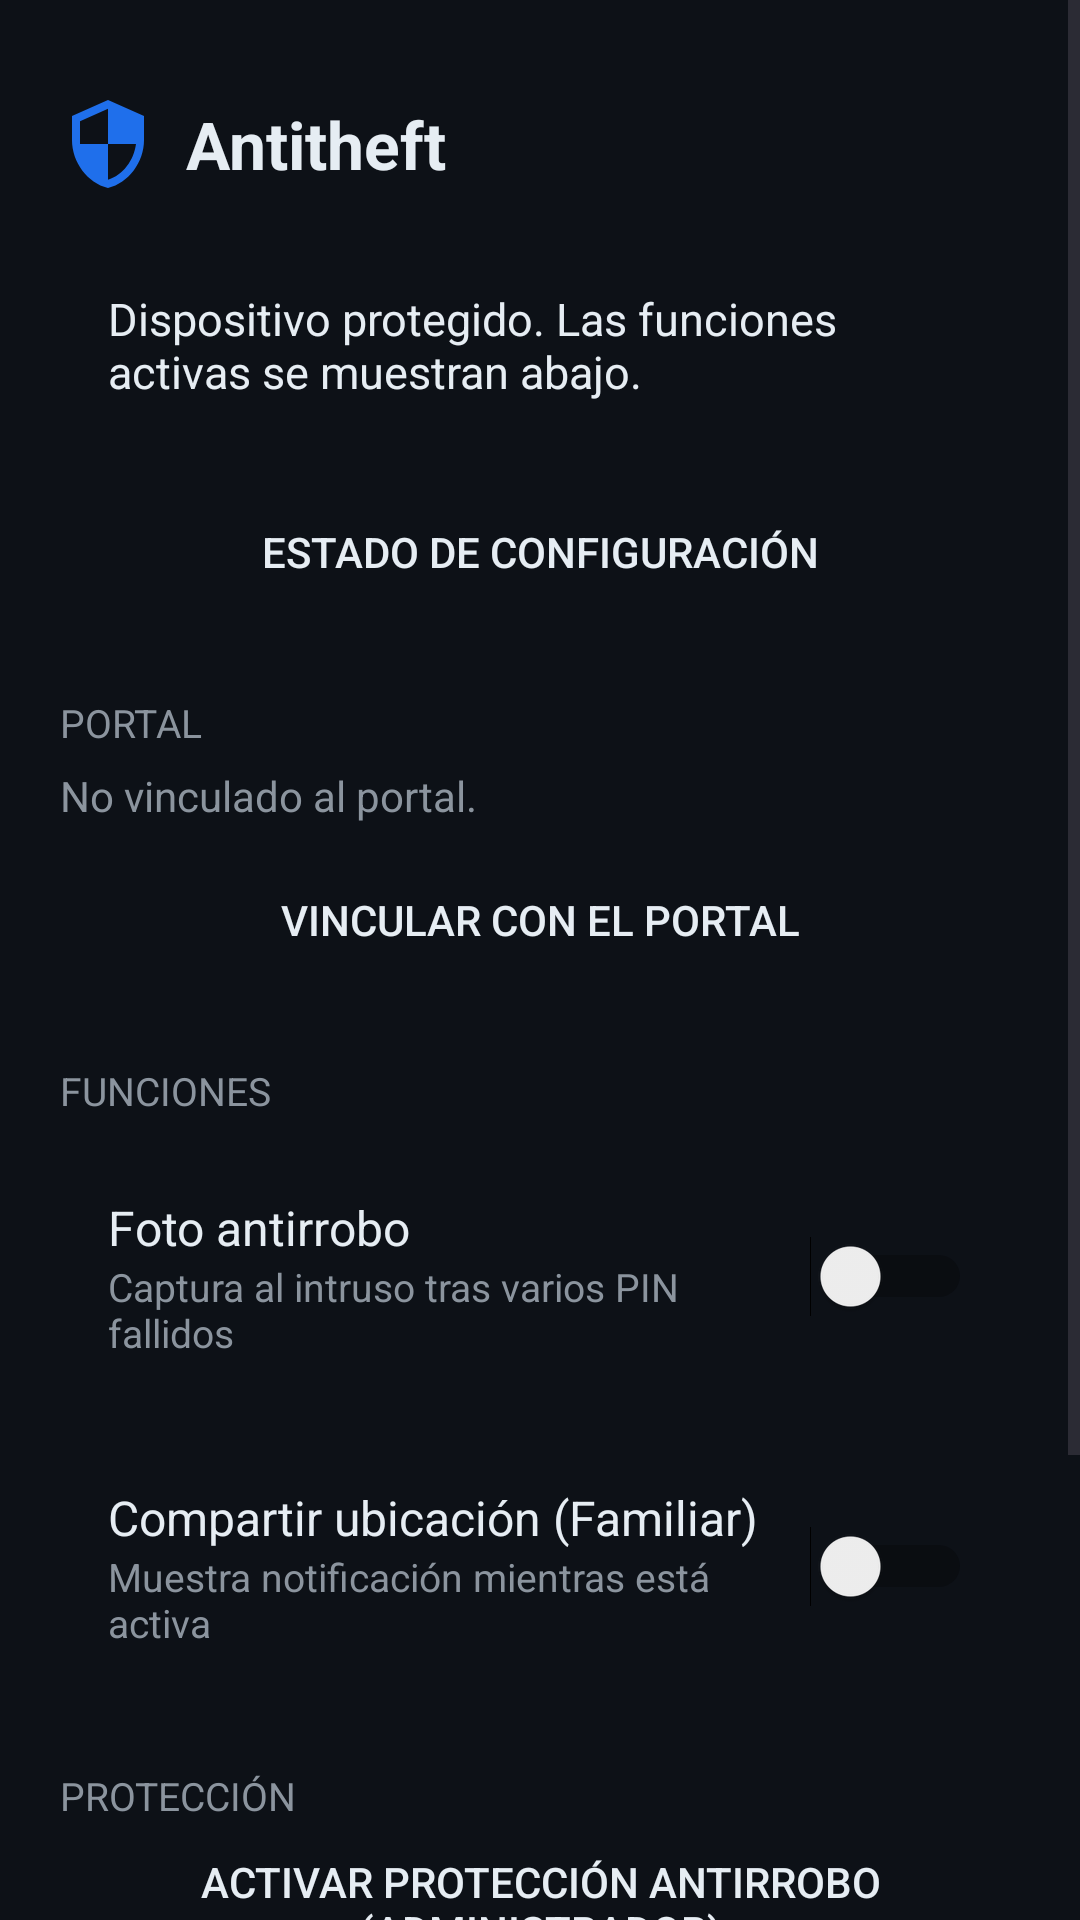

Screen size 1080*1920. Icon name, then its center in pixels as point (x, y):
shield: point (108, 144)
